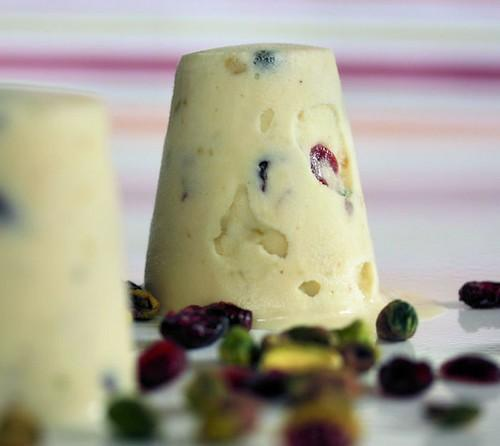Kulfi: (143, 43, 380, 330), (0, 87, 136, 437)
